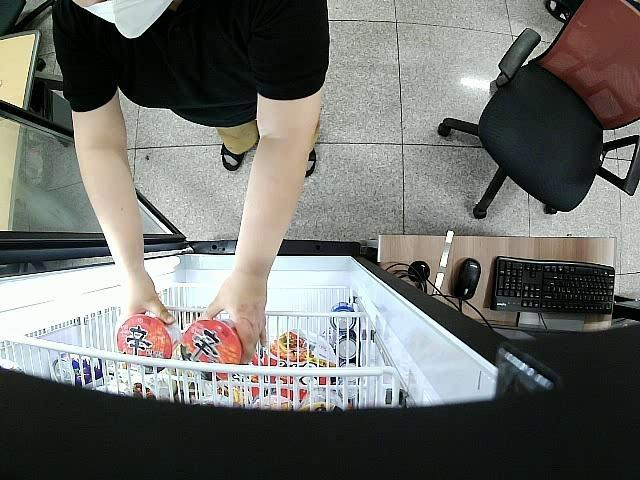02_shinRamen_S: (183, 316, 242, 379), (116, 314, 180, 358)
